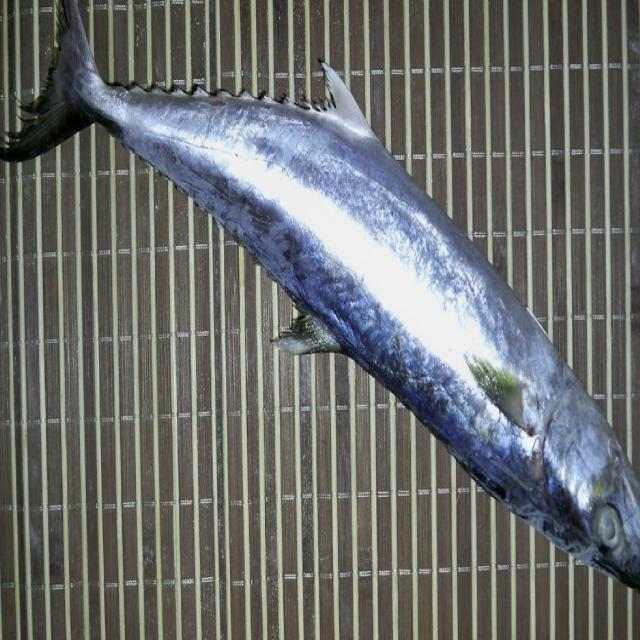seer: (0, 0, 640, 591)
